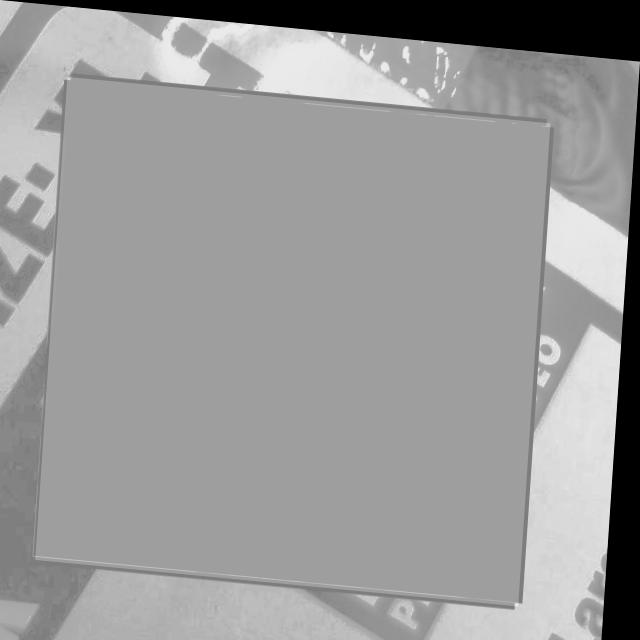qr_code: (43, 75, 551, 595)
